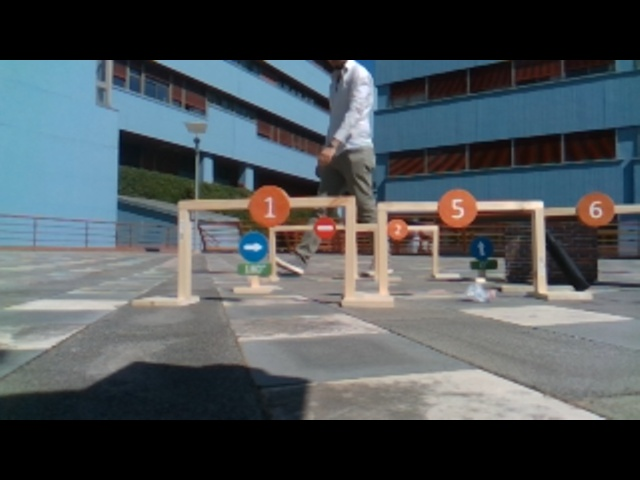180_degree: (236, 262, 272, 277)
arrow_right: (238, 232, 270, 261)
arrow_up: (467, 237, 496, 260)
checkpoint_foot: (132, 289, 200, 311), (336, 289, 386, 313), (429, 262, 464, 282)
checkpoint_side: (528, 197, 552, 293), (175, 196, 197, 295), (338, 192, 360, 291), (372, 201, 394, 294)
checkpoint_signal: (175, 193, 361, 210), (375, 198, 550, 213), (543, 204, 638, 217), (270, 222, 347, 235), (389, 221, 440, 236)
denied: (315, 216, 337, 241)
five: (438, 188, 480, 226)
six: (575, 187, 617, 227)
two: (388, 218, 410, 245)
wall: (505, 225, 598, 283)
